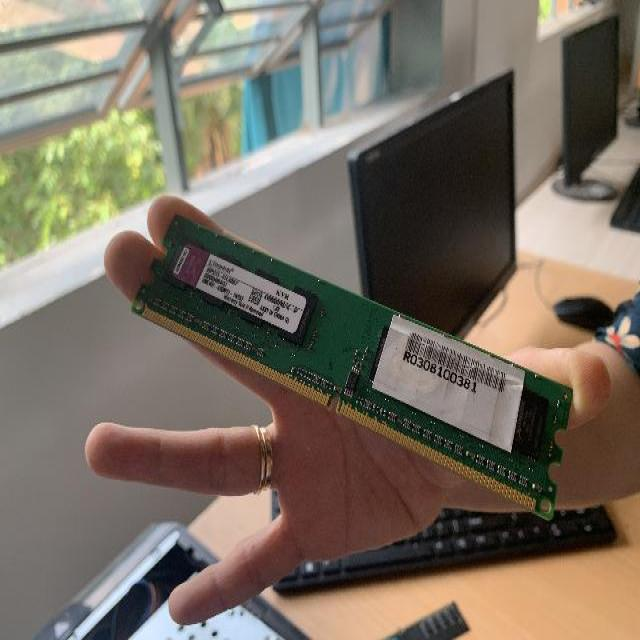RAM: (127, 205, 575, 524)
